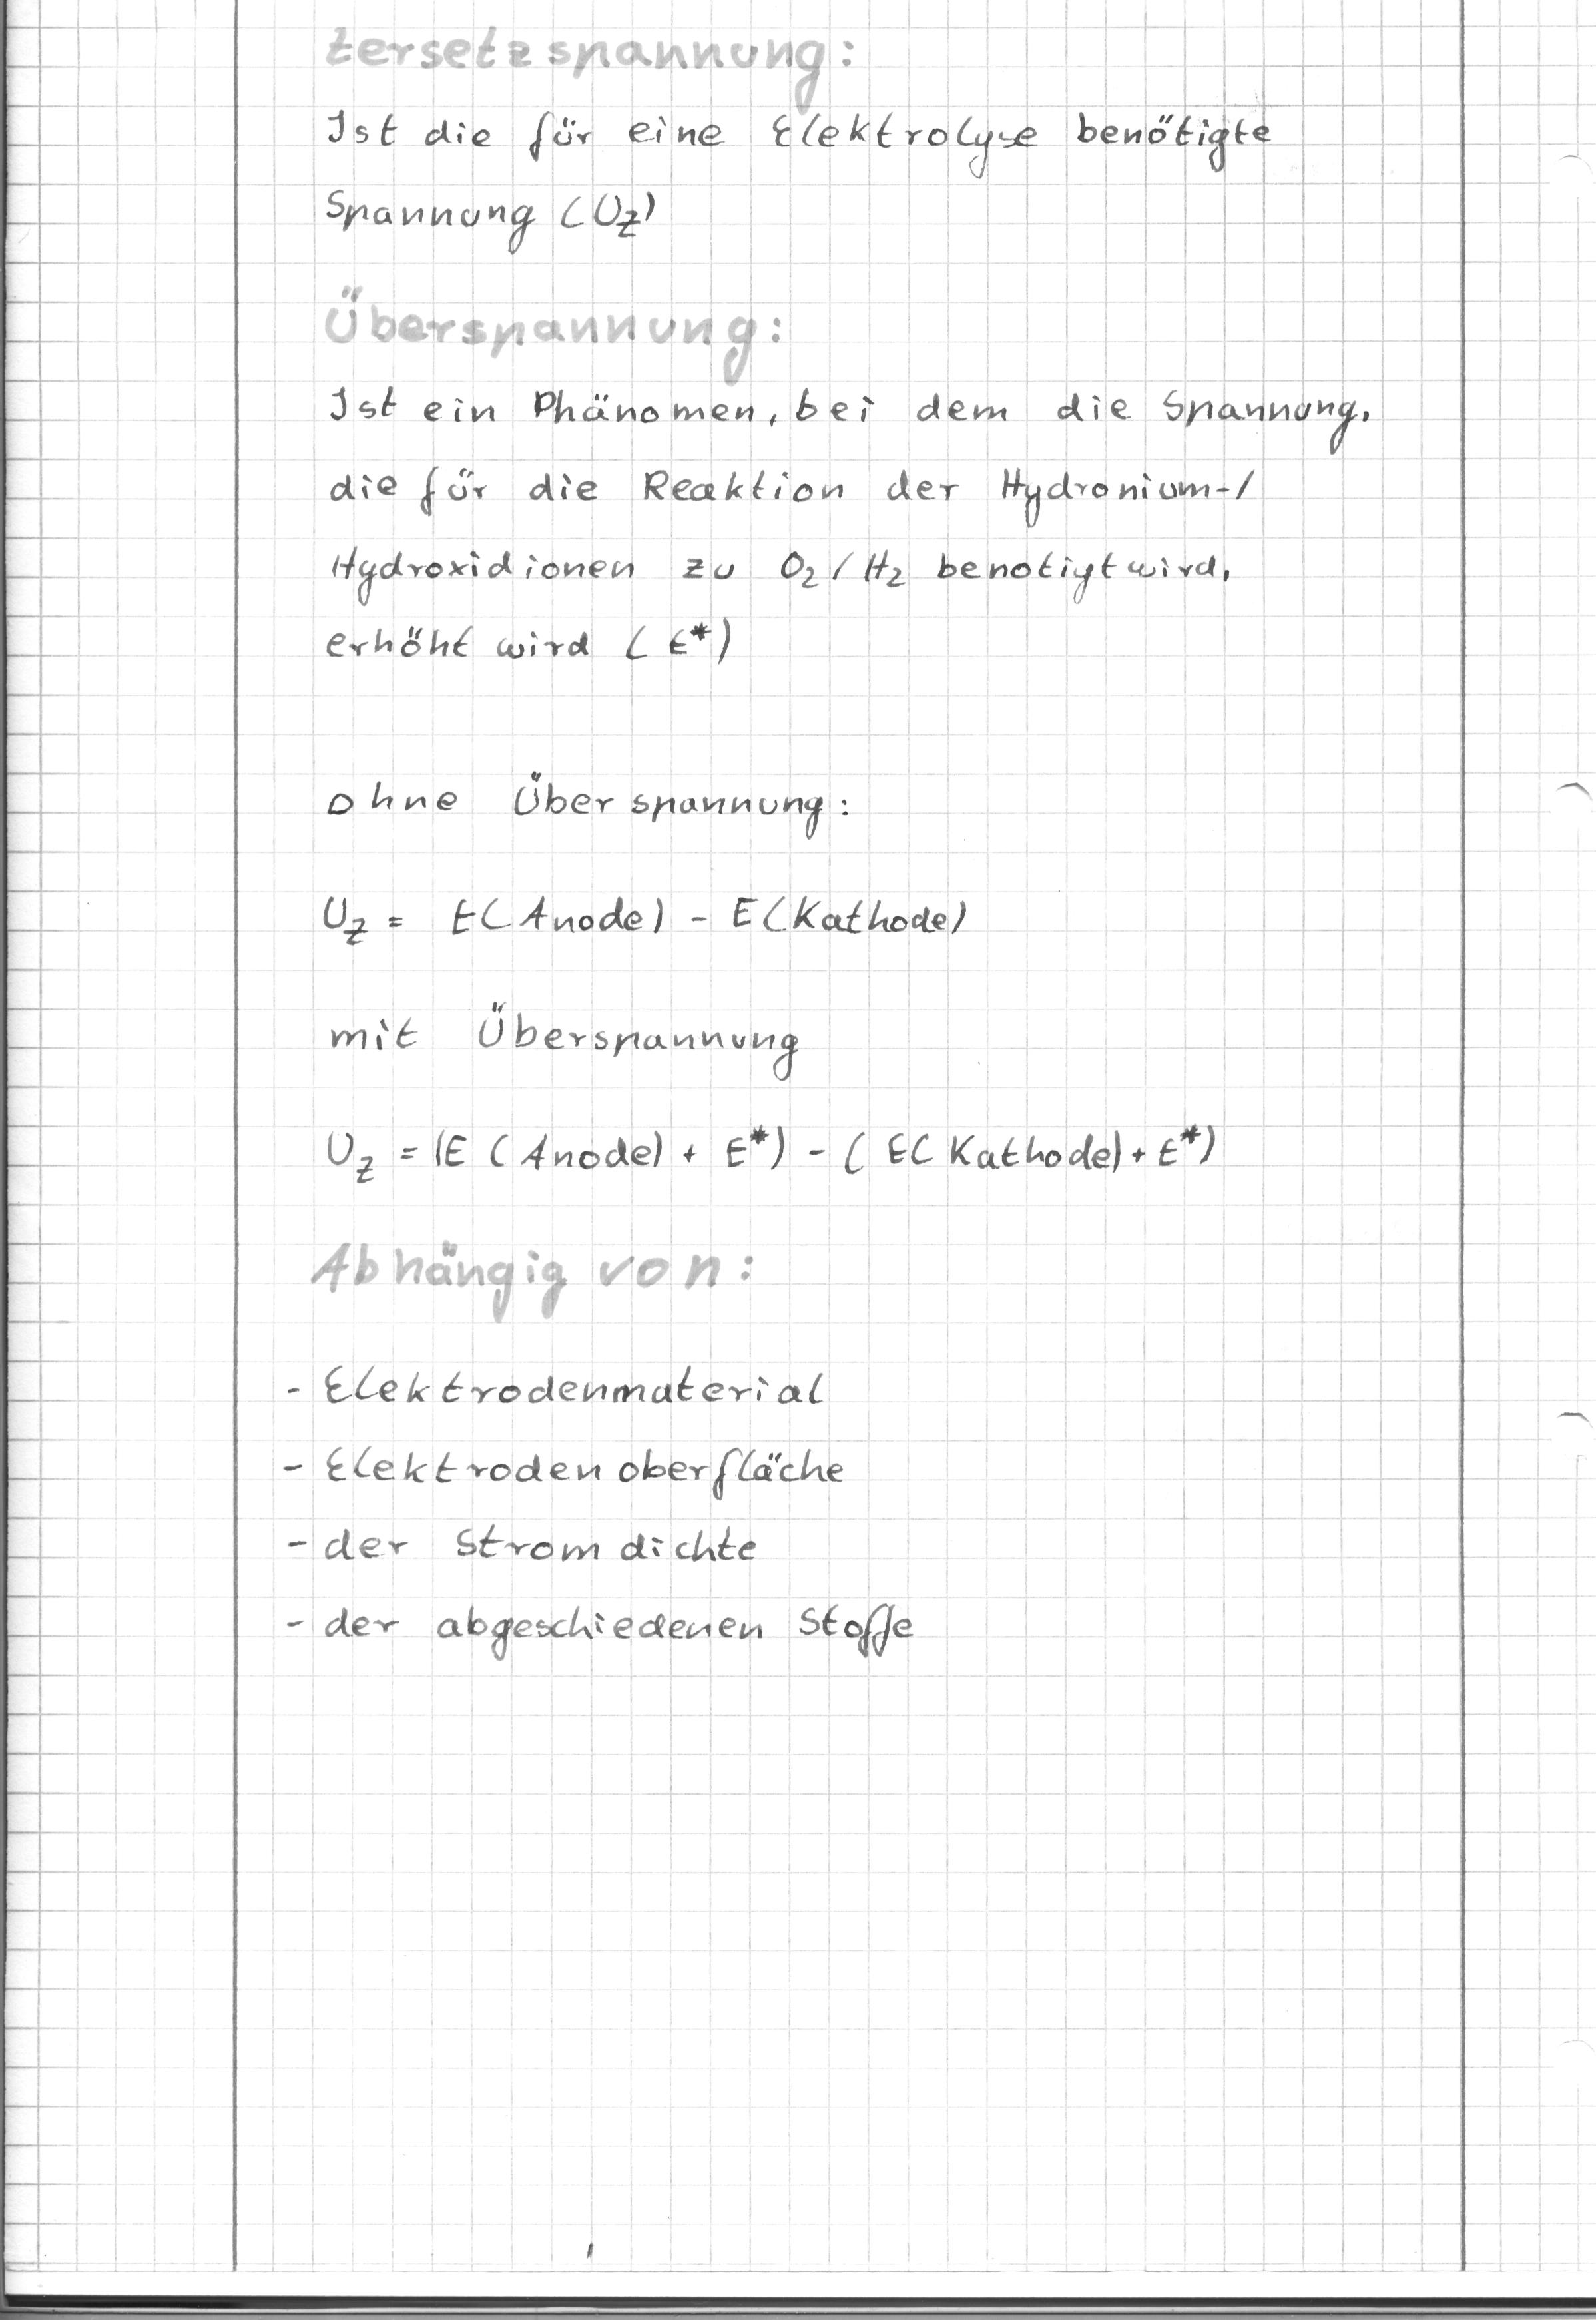word: (302, 366, 1377, 679), (276, 1351, 931, 1672), (313, 94, 1282, 263), (307, 1098, 1225, 1207), (316, 874, 976, 963), (324, 988, 810, 1089), (320, 761, 870, 850)
